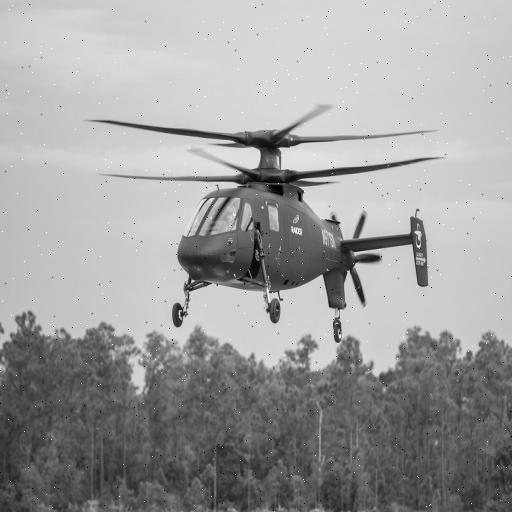helicopter: (85, 102, 439, 342)
